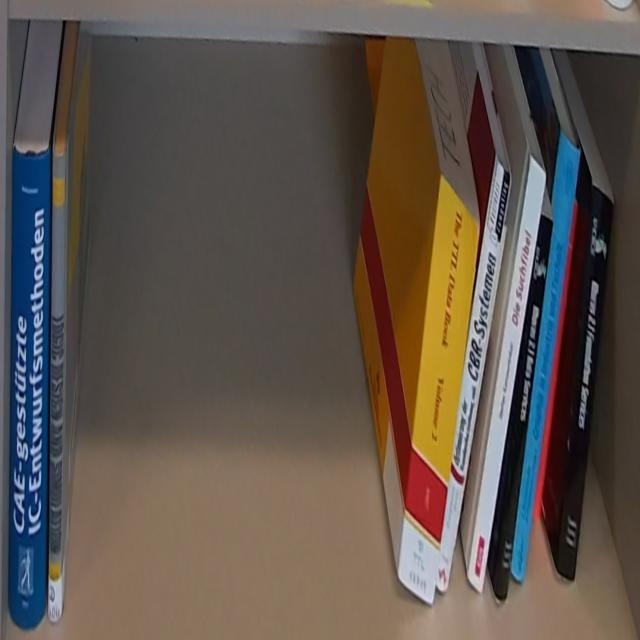Book Spine: (397, 177, 481, 605), (467, 151, 547, 592), (435, 160, 512, 596), (514, 123, 585, 577), (495, 217, 554, 606), (558, 194, 613, 585), (8, 145, 51, 633), (49, 148, 67, 623)
